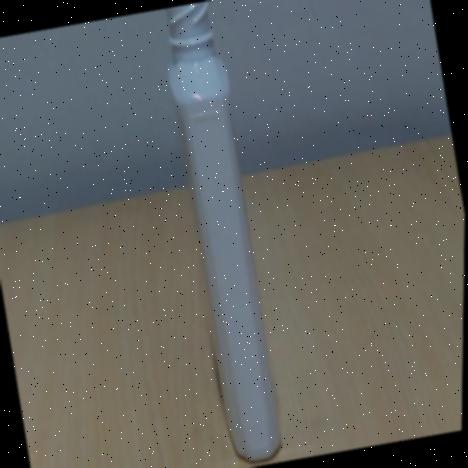bottle: (165, 1, 280, 460)
